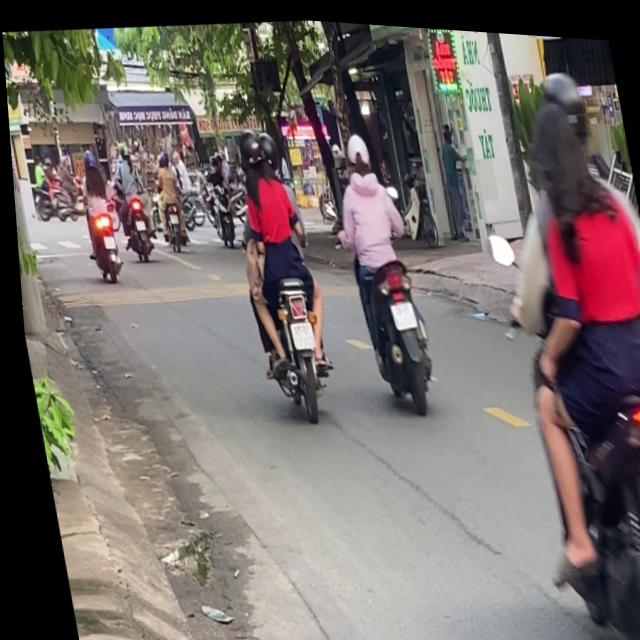helmet: (537, 59, 595, 142), (340, 126, 374, 175), (252, 124, 280, 174), (235, 125, 264, 172)
licenseplate: (458, 47, 640, 640), (216, 117, 342, 422), (322, 121, 438, 412)
motorcyclist: (518, 89, 601, 208)
nohelmet: (385, 293, 413, 325), (285, 316, 311, 345)
